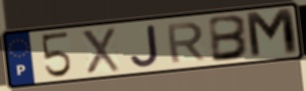5: (39, 30, 72, 80)
B: (207, 13, 251, 64)
J: (129, 23, 162, 69)
M: (243, 7, 302, 61)
R: (164, 21, 208, 65)
X: (79, 26, 122, 76)
